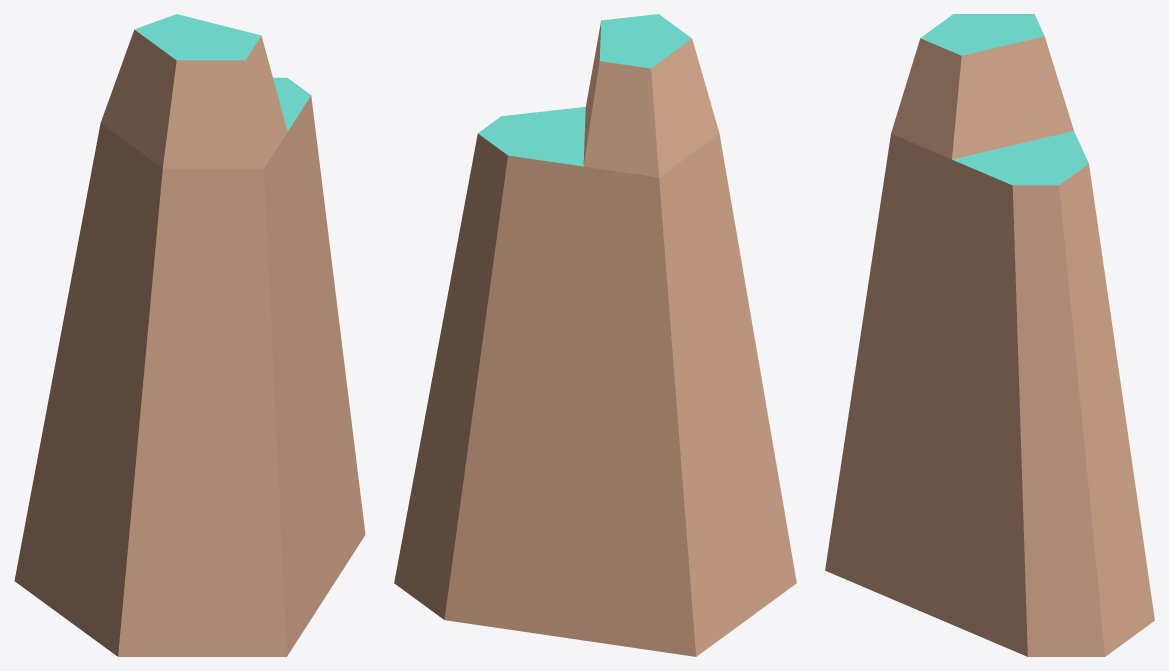
Rendered from rock_tallC.glb.
3 renders of one model, left to right at view 1: azimuth 30°, elevation 25°; view 2: azimuth 150°, elevation 25°; view 3: azimuth 270°, elevation 25°, orthographic. The views are drawn at different scales.
Visible parts, largest first — view 1: rock_tallC; view 2: rock_tallC; view 3: rock_tallC.
Part boxes in pixels (box(x1,y1,x2,y2)): rock_tallC: box(14, 14, 365, 656); rock_tallC: box(394, 14, 796, 656); rock_tallC: box(825, 14, 1154, 656).
Size of the model in its own units: 0.4562 by 0.7829 by 0.4365.
